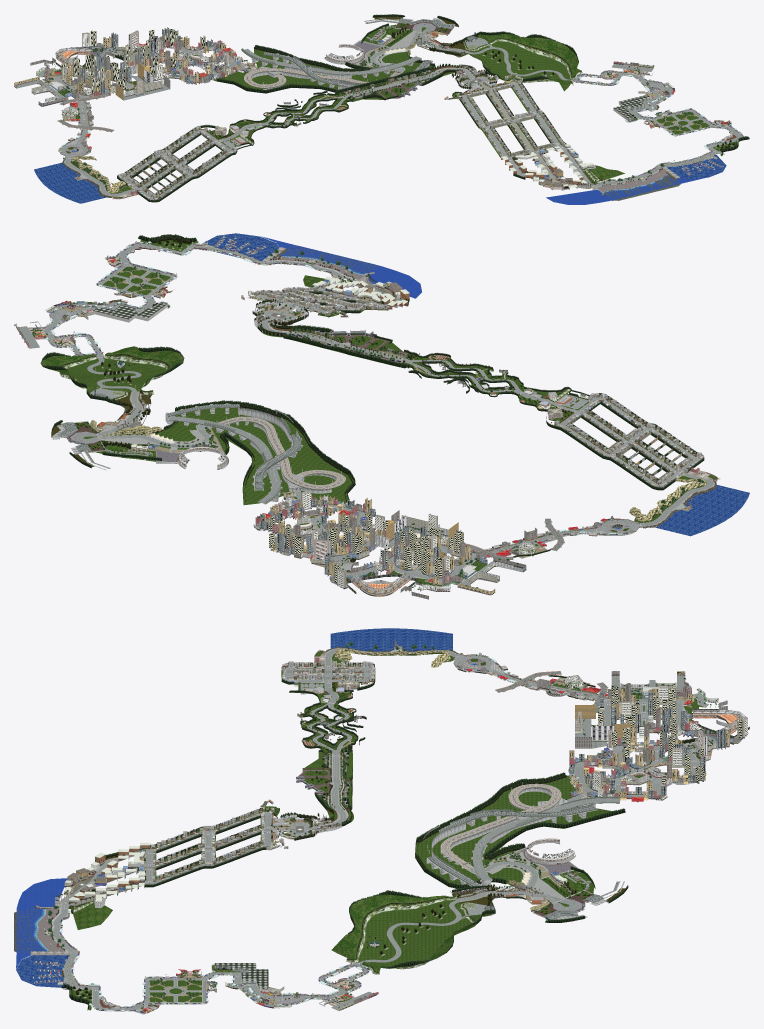
File: arcade-city.glb
The picture shows the model from 3 angles, top to bottom: view 1: azimuth 30°, elevation 25°; view 2: azimuth 150°, elevation 25°; view 3: azimuth 270°, elevation 25°; orthographic projection. The views are drawn at different scales.
Parts seen in each view (by area): view 1: arcade-city; view 2: arcade-city; view 3: arcade-city.
Boxes of the visible parts, x1,y1,x2,y2 form: arcade-city: (14,14,749,204); arcade-city: (14,233,749,599); arcade-city: (14,628,749,1014).
Size of the model in its own units: 34352 by 3177 by 28463.
Materials: 336 (334 with a texture image).
